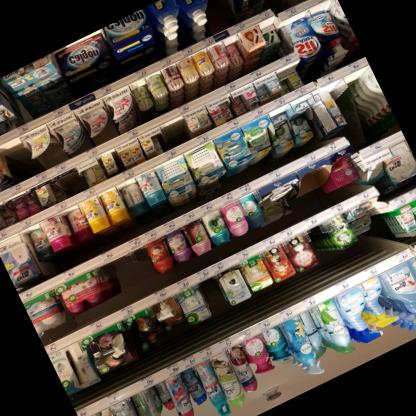empty_space: (93, 246, 154, 290), (335, 63, 372, 128), (0, 134, 42, 179), (160, 115, 190, 144), (204, 0, 230, 25)
